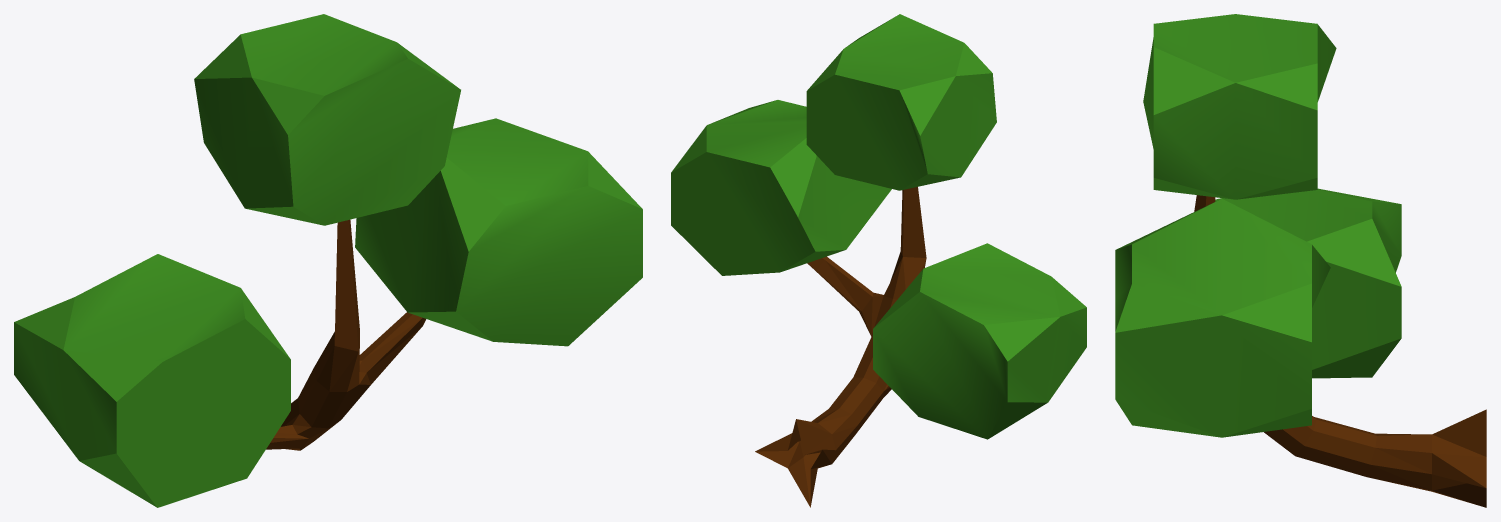
File: WallTree2.FBX
The picture shows the model from 3 angles, left to right: view 1: azimuth 30°, elevation 25°; view 2: azimuth 150°, elevation 25°; view 3: azimuth 270°, elevation 25°; orthographic projection. The views are drawn at different scales.
Visible parts, largest first — view 1: Box003, Box002, Box001, TreeBase; view 2: Box003, Box002, Box001, TreeBase; view 3: Box002, Box001, Box003, TreeBase.
Part boxes in pixels (bbox=[...]): Box003: bbox=[14, 254, 290, 507]; Box002: bbox=[355, 118, 642, 346]; Box001: bbox=[194, 14, 460, 225]; TreeBase: bbox=[266, 219, 426, 450]; Box003: bbox=[873, 243, 1086, 439]; Box002: bbox=[671, 100, 891, 275]; Box001: bbox=[806, 14, 996, 190]; TreeBase: bbox=[755, 187, 926, 507]; Box002: bbox=[1115, 199, 1330, 437]; Box001: bbox=[1143, 14, 1336, 199]; Box003: bbox=[1215, 188, 1401, 378]; TreeBase: bbox=[1194, 195, 1486, 507].
Bounding box in the file's own units: 6.35 × 6.18 × 4.27.
4 materials, 4 textured.
